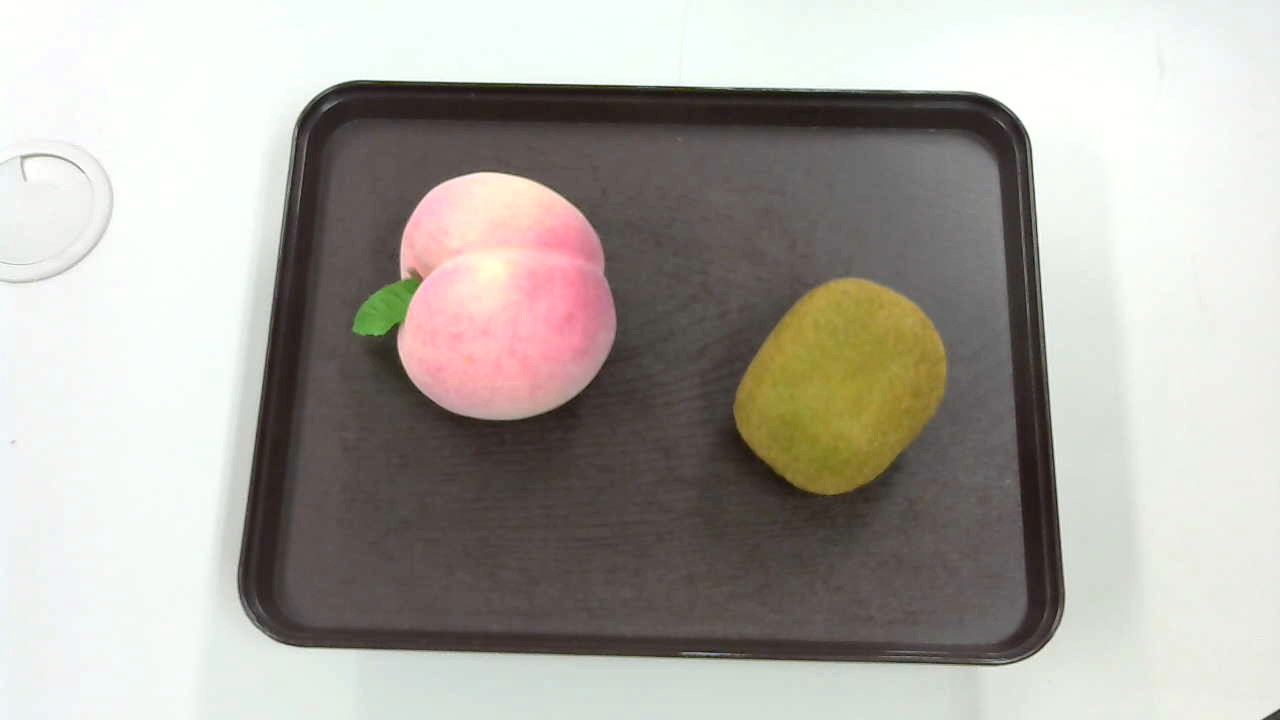kiwi fruit: (731, 277, 952, 498)
peach: (351, 167, 626, 423)
